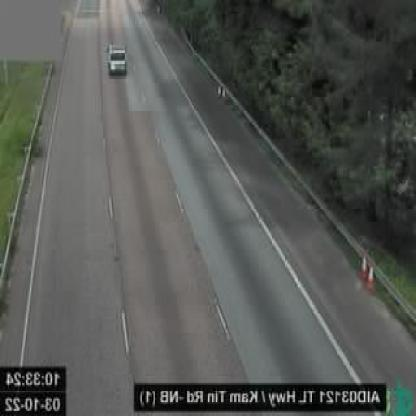Car: (108, 40, 127, 74)
